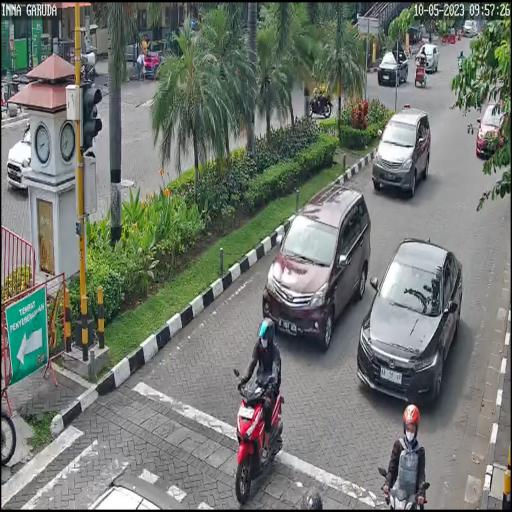mobil: (256, 180, 372, 349), (357, 236, 463, 408), (369, 106, 431, 198)
motor: (233, 364, 284, 506)
